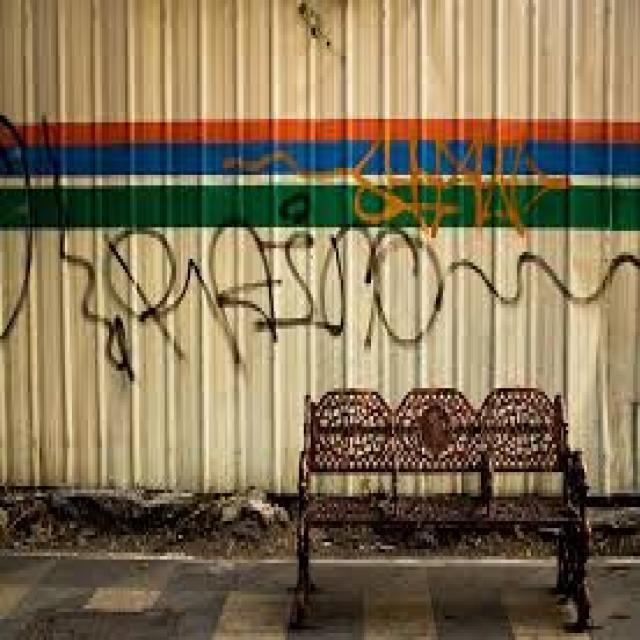-: (0, 107, 640, 374)
